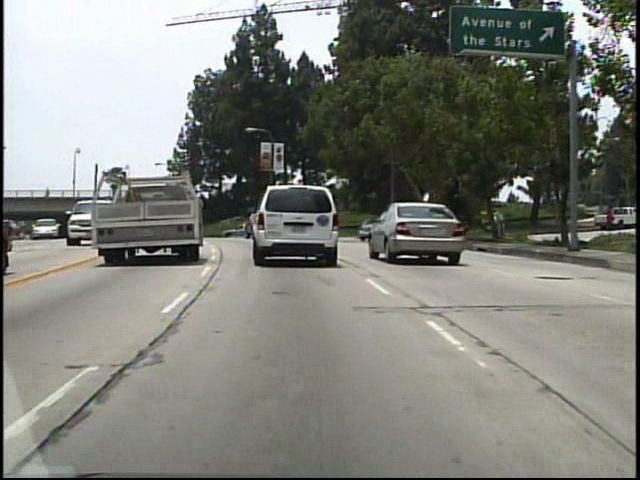person: (41, 183, 52, 203)
